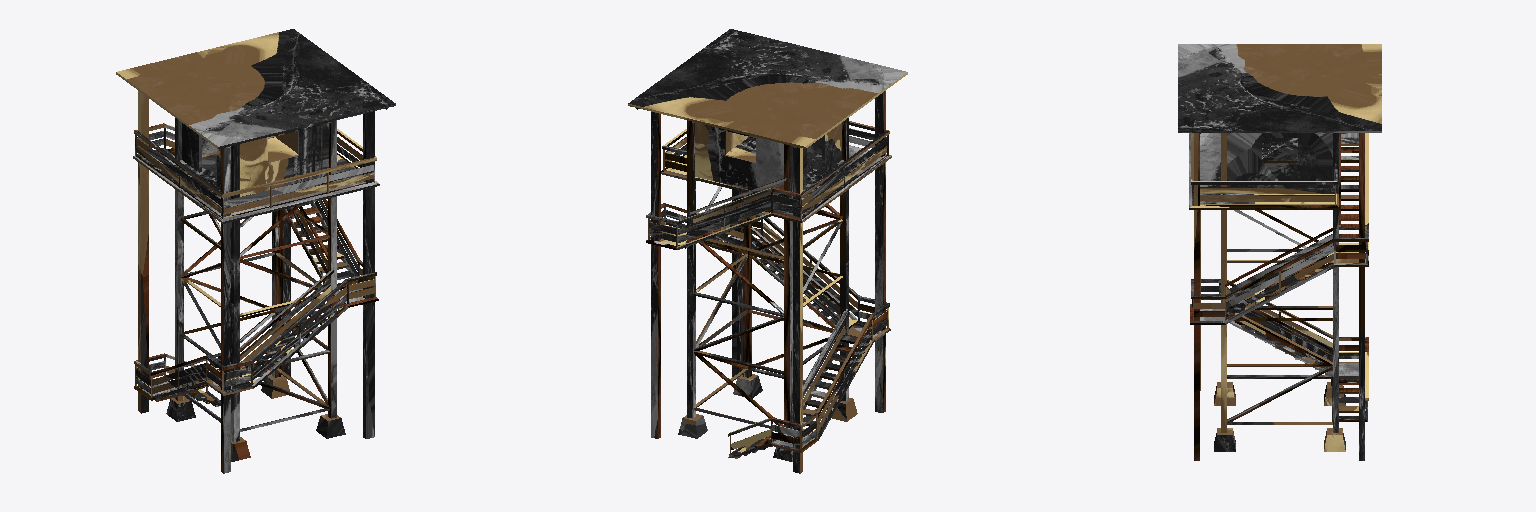
3 renders of one model, left to right at view 1: azimuth 30°, elevation 25°; view 2: azimuth 150°, elevation 25°; view 3: azimuth 270°, elevation 25°, orthographic.
Parts seen in each view (by area): view 1: watchtowerHigh_watchtower; view 2: watchtowerHigh_watchtower; view 3: watchtowerHigh_watchtower.
Boxes of the visible parts, <box> form: watchtowerHigh_watchtower: <box>116,29,395,473</box>; watchtowerHigh_watchtower: <box>628,29,907,473</box>; watchtowerHigh_watchtower: <box>1178,44,1381,460</box>.
Size of the model in its own units: 4.22 by 7.65 by 4.22.
1 materials, 1 textured.